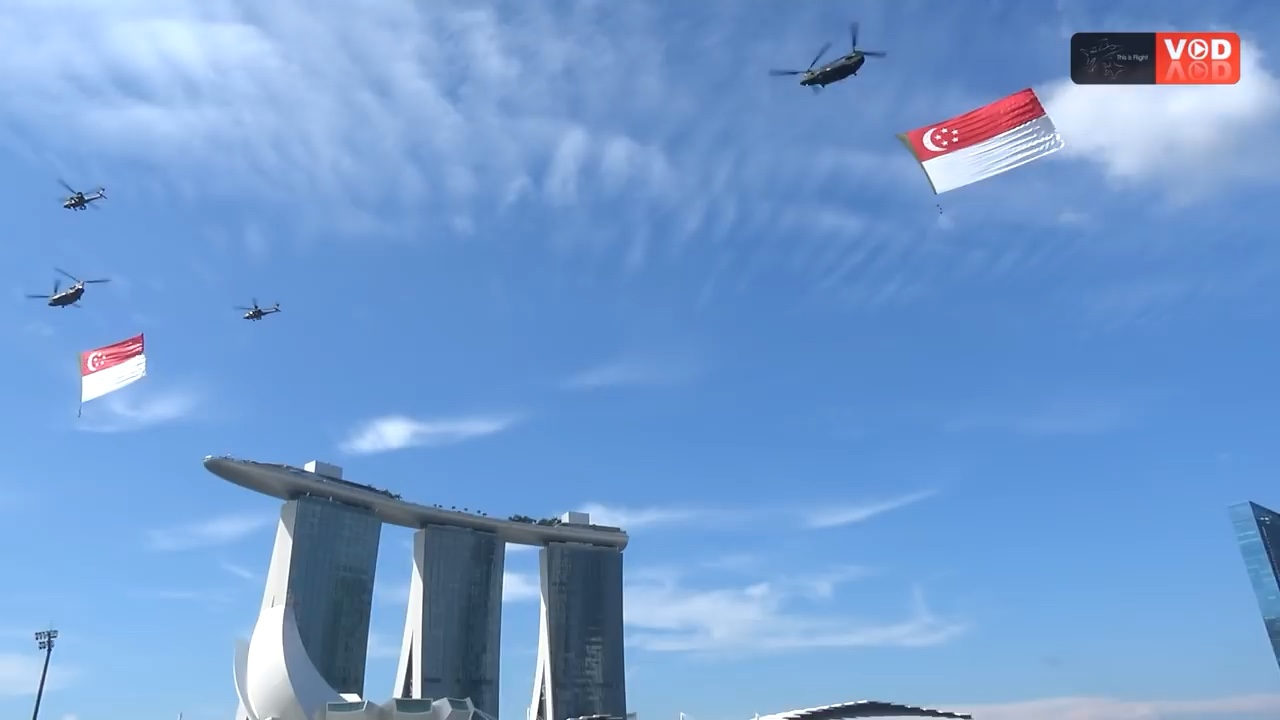ah64: (53, 174, 112, 215), (231, 294, 285, 325)
chinook: (763, 20, 892, 98), (22, 264, 113, 312)
